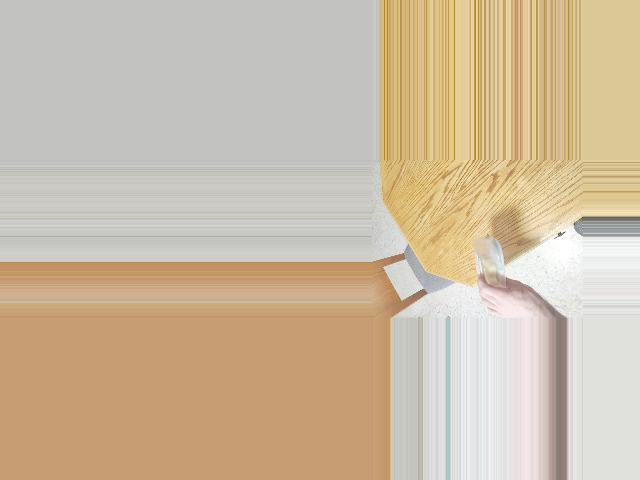cheese: (462, 236, 530, 303)
